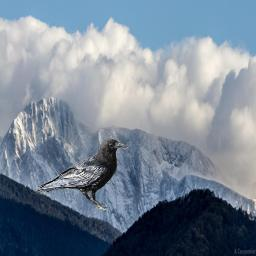Crow: (35, 137, 128, 211)
